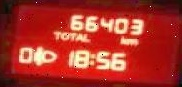0: (15, 45, 32, 62), (112, 16, 128, 33)
1: (63, 47, 72, 66)
3: (127, 16, 143, 33)
4: (99, 15, 110, 31)
5: (94, 49, 109, 69)
6: (109, 50, 125, 71), (67, 12, 82, 30), (83, 12, 97, 31)
8: (72, 48, 88, 68)
X: (125, 37, 137, 45), (73, 31, 82, 40), (58, 31, 67, 40), (50, 30, 59, 39), (117, 34, 125, 44), (89, 52, 94, 66), (82, 32, 90, 40), (67, 31, 73, 40)
